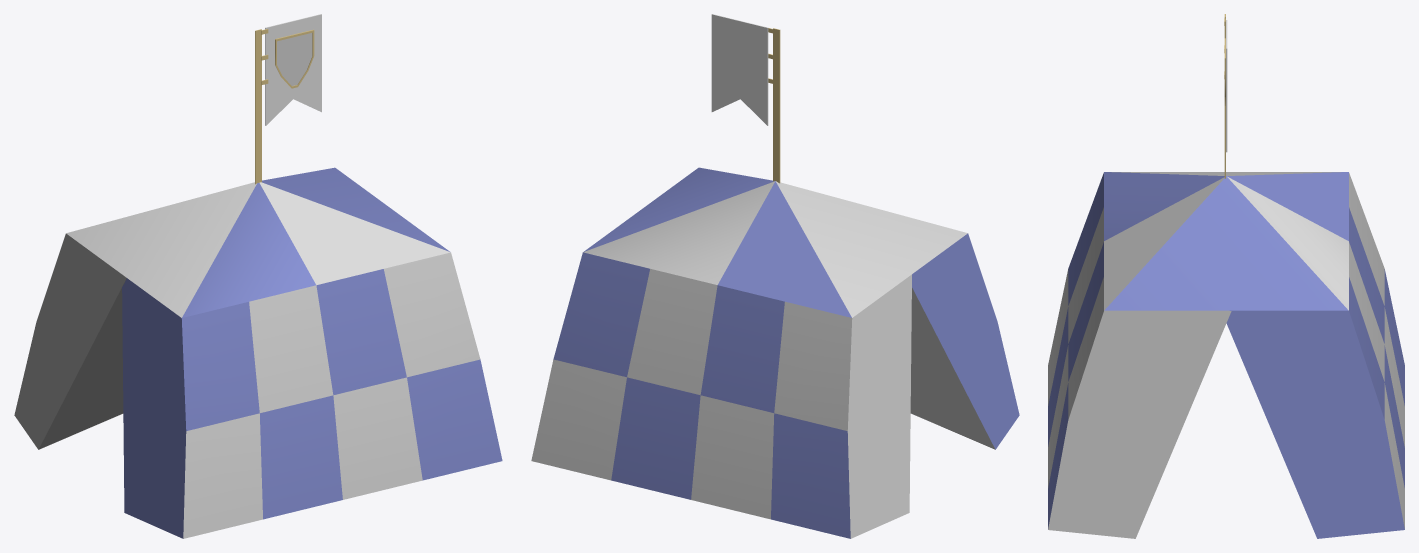
Rendered from shield_tent_01.fbx.
3 views of the same model, side by side, from view 1: azimuth 30°, elevation 25°; view 2: azimuth 150°, elevation 25°; view 3: azimuth 270°, elevation 25° (orthographic). The views are drawn at different scales.
Parts seen in each view (by area): view 1: pCube151, pCube150, pCube152; view 2: pCube151, pCube150; view 3: pCube151, pCube150.
Boxes of the visible parts, x1,y1,x2,y2 form: pCube151: (14, 167, 502, 538); pCube150: (255, 14, 321, 184); pCube152: (275, 29, 314, 88); pCube151: (531, 167, 1019, 538); pCube150: (711, 14, 780, 183); pCube151: (1048, 172, 1404, 538); pCube150: (1224, 14, 1227, 178).
Size of the model in its own units: 1.9 by 2.09 by 1.57.
